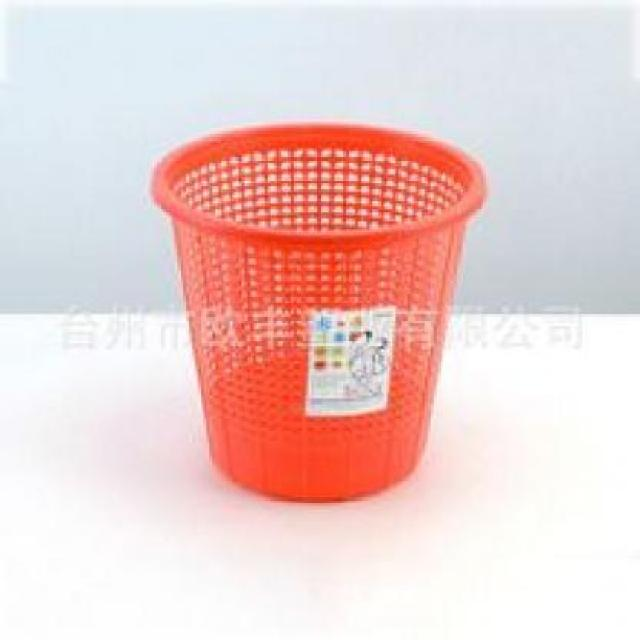dustbin: (145, 115, 493, 508)
